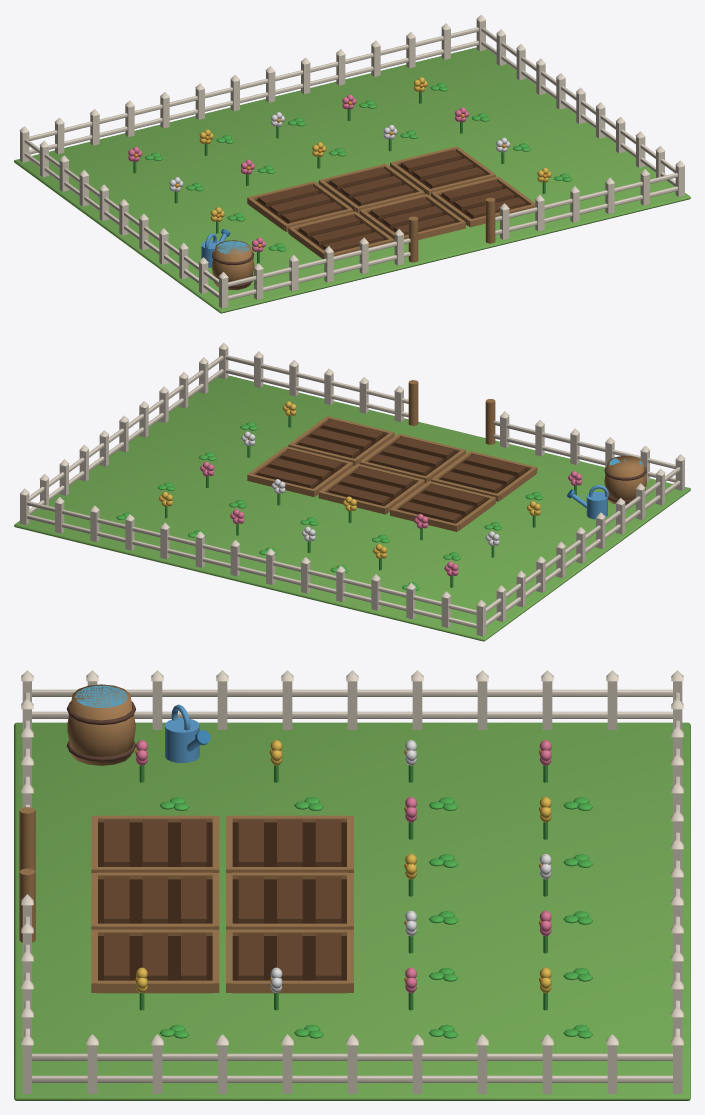
File: garden1.glb
The picture shows the model from 3 angles, top to bottom: view 1: azimuth 30°, elevation 25°; view 2: azimuth 150°, elevation 25°; view 3: azimuth 270°, elevation 25°; orthographic projection. The views are drawn at different scales.
Visible parts, largest first — view 1: oak-fence, tilled-plots, clover-patch; view 2: oak-fence, tilled-plots, clover-patch; view 3: oak-fence, tilled-plots, clover-patch.
Part boxes in pixels (box(x1,y1,x2,y2)): oak-fence: box(14, 14, 690, 313); tilled-plots: box(201, 146, 535, 289); clover-patch: box(128, 77, 571, 263); oak-fence: box(14, 342, 690, 641); tilled-plots: box(247, 416, 646, 531); clover-patch: box(116, 401, 581, 590); oak-fence: box(14, 670, 690, 1100); tilled-plots: box(66, 684, 353, 993); clover-patch: box(135, 740, 592, 1038).
Bounding box in the file's own units: 6.6 × 0.5999 × 5.03.
